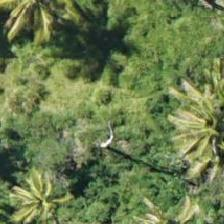coconut_tree: (0, 155, 87, 223), (3, 0, 93, 59)
